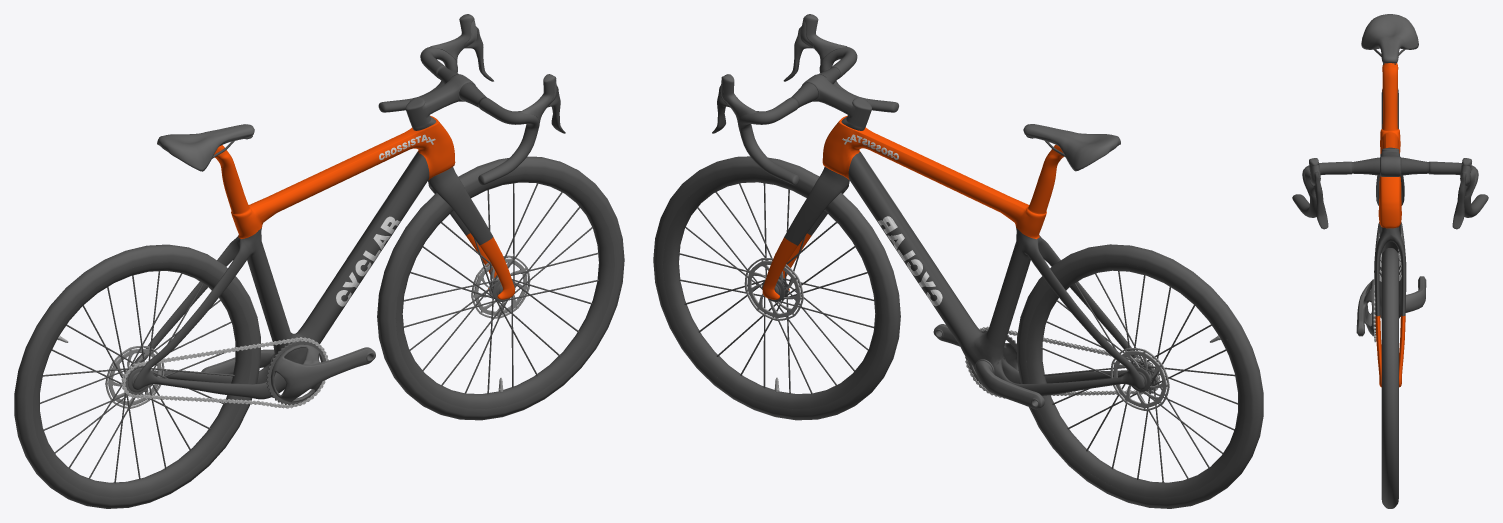
The model's file is bike3-orange.glb.
3 views of the same model, side by side, from view 1: azimuth 30°, elevation 25°; view 2: azimuth 150°, elevation 25°; view 3: azimuth 270°, elevation 25° (orthographic). The views are drawn at different scales.
Visible parts, largest first — view 1: bike; view 2: bike; view 3: bike.
Part boxes in pixels (<box>): bike: <box>14,14,624,508</box>; bike: <box>653,14,1263,508</box>; bike: <box>1292,14,1488,508</box>.
Size of the model in its own units: 1.77 by 1.03 by 0.5343.
